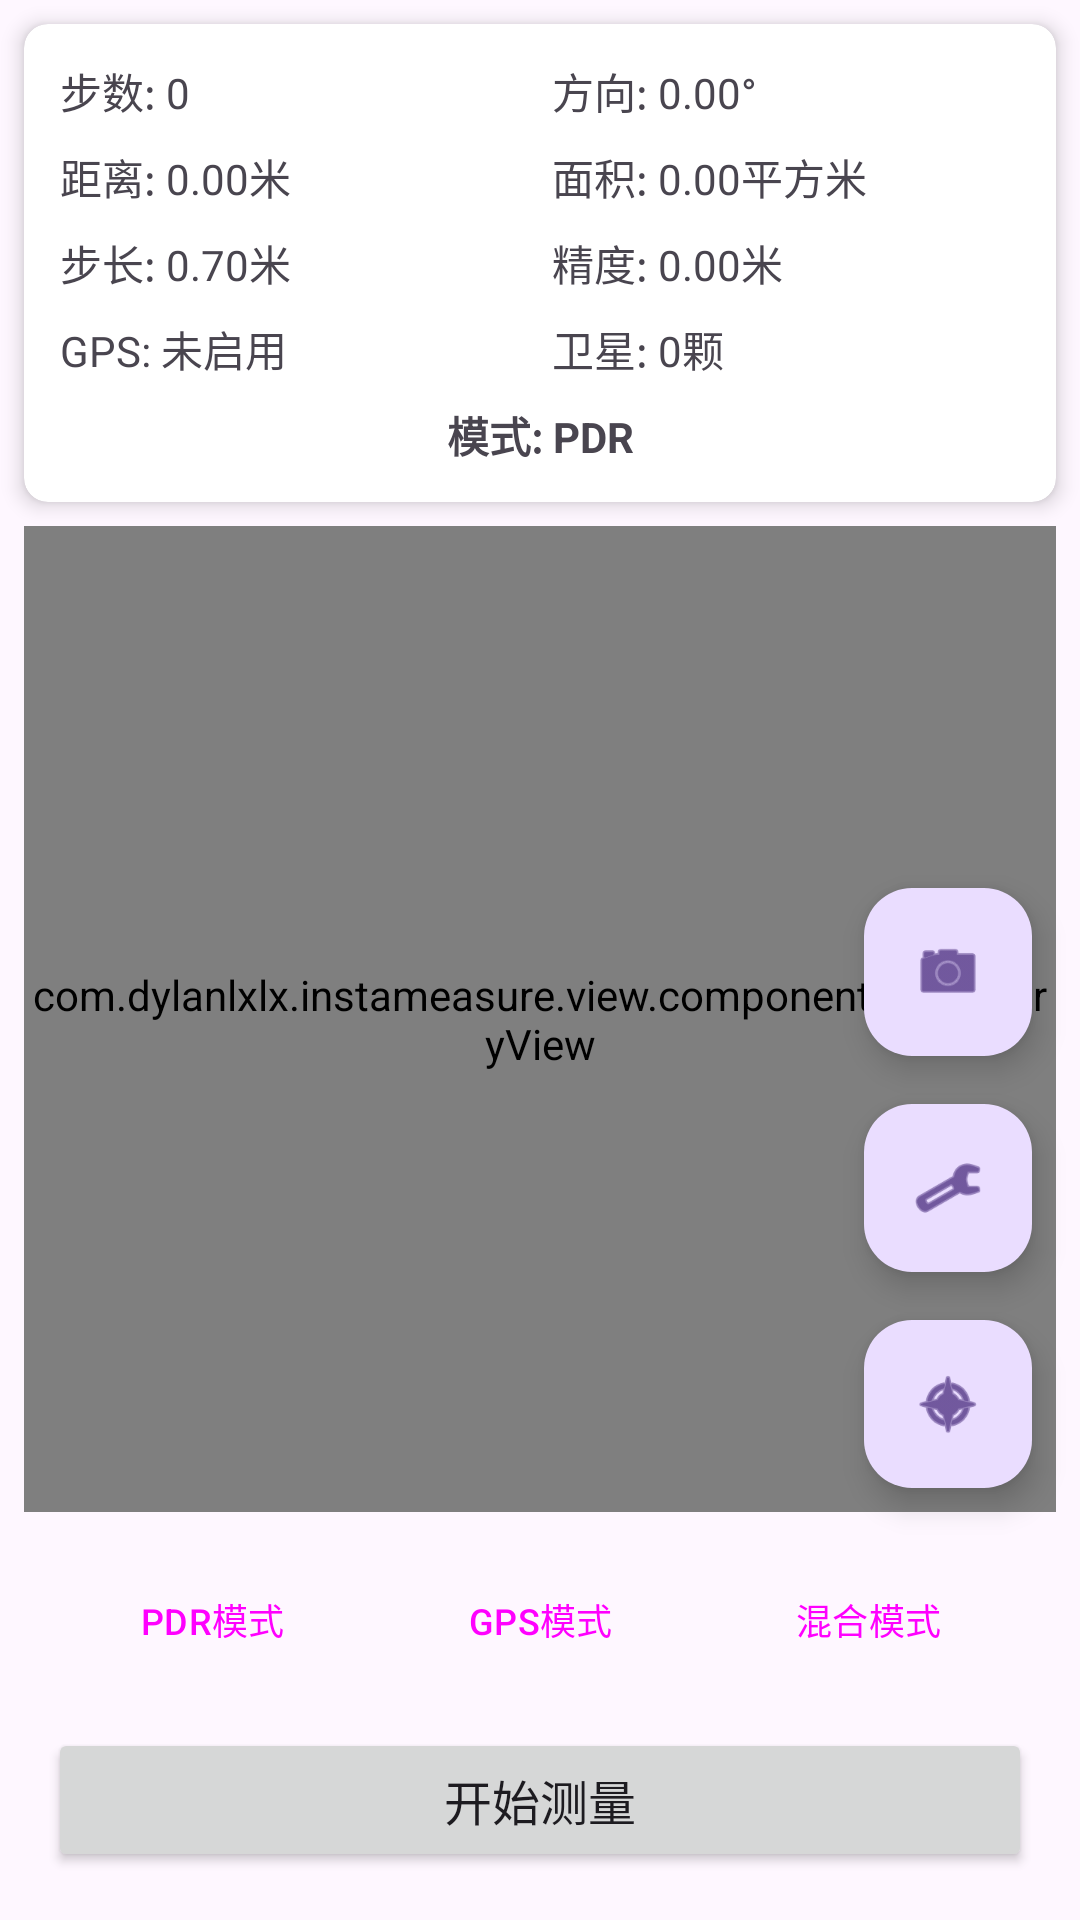

Point at icon controls on the screen. Image size 1080*1920, points as (x=x, y=y).
camera: (x=948, y=972)
preferences: (x=948, y=1188)
